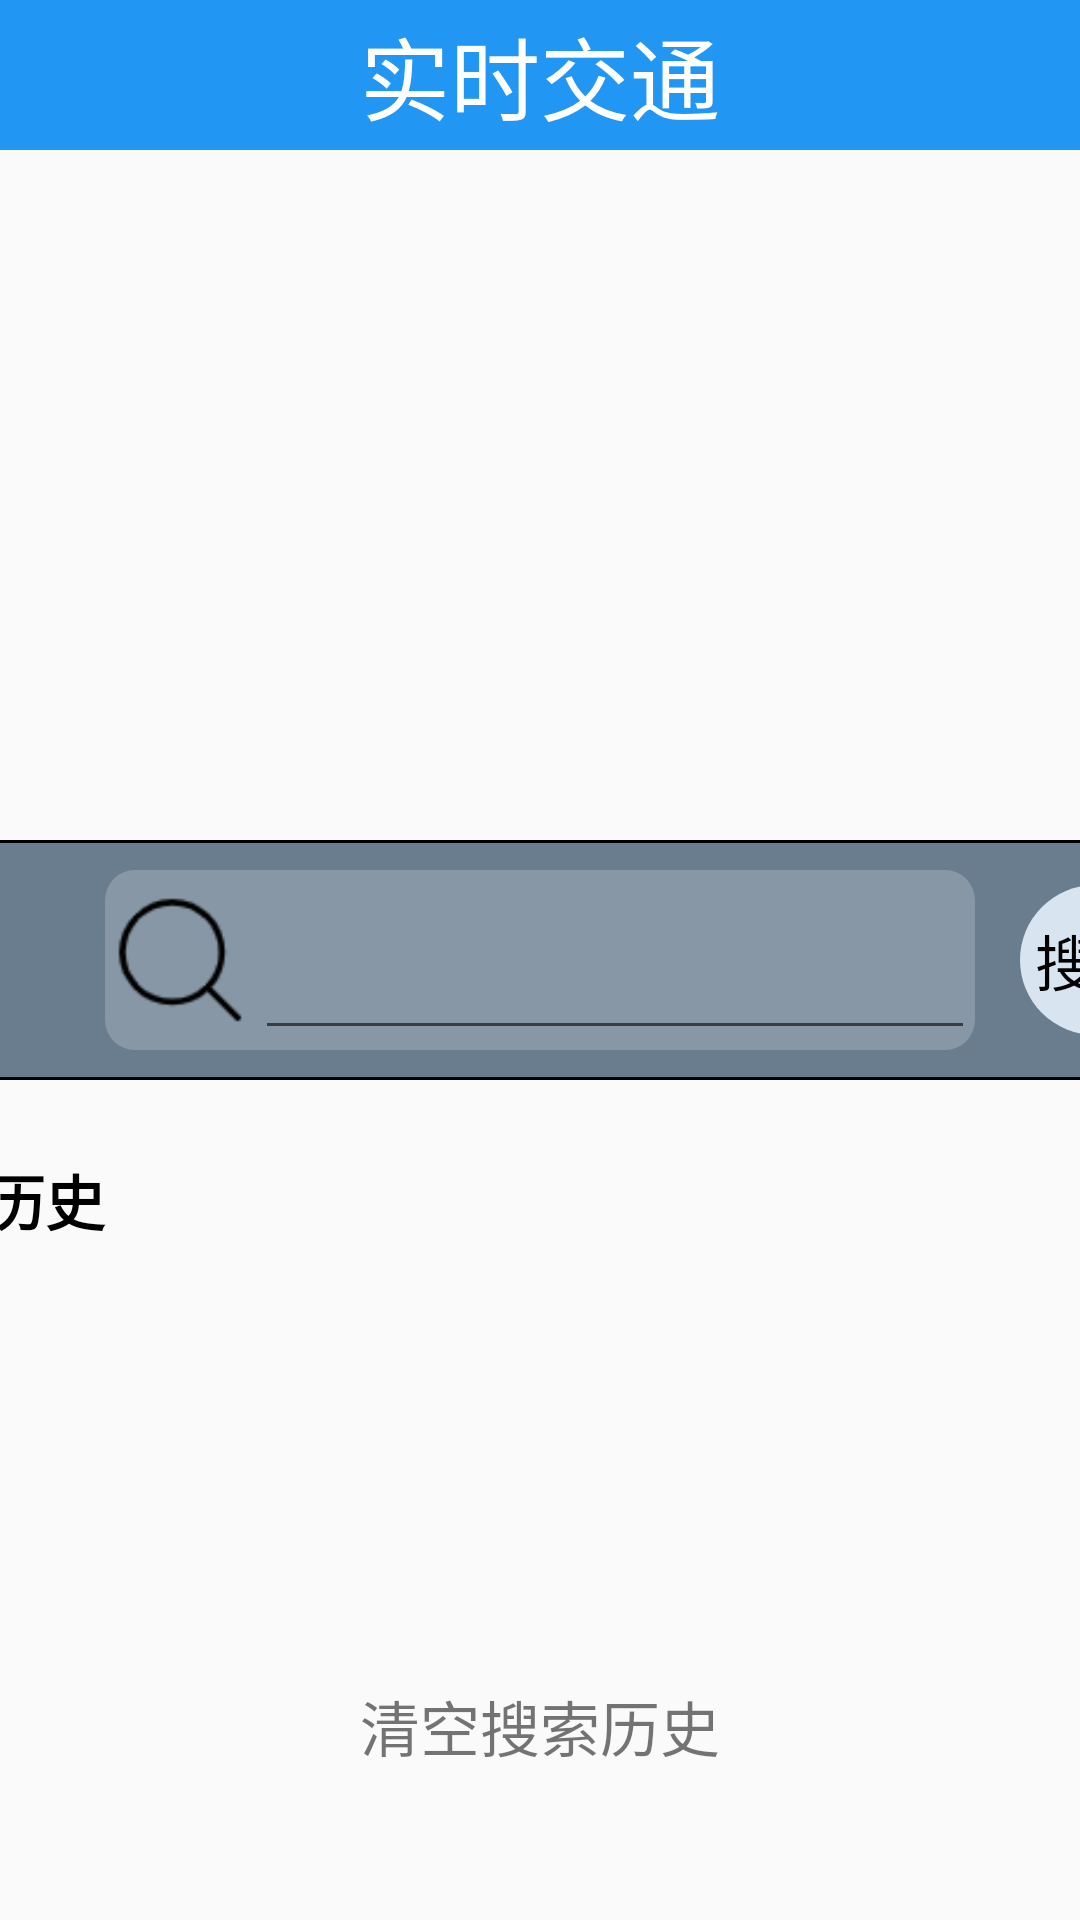

Named icons in this screenshot (1080px×1920px) and their bounding boxes, (x1, y1, x2, y2):
sousuo: (118, 898, 242, 1022)
